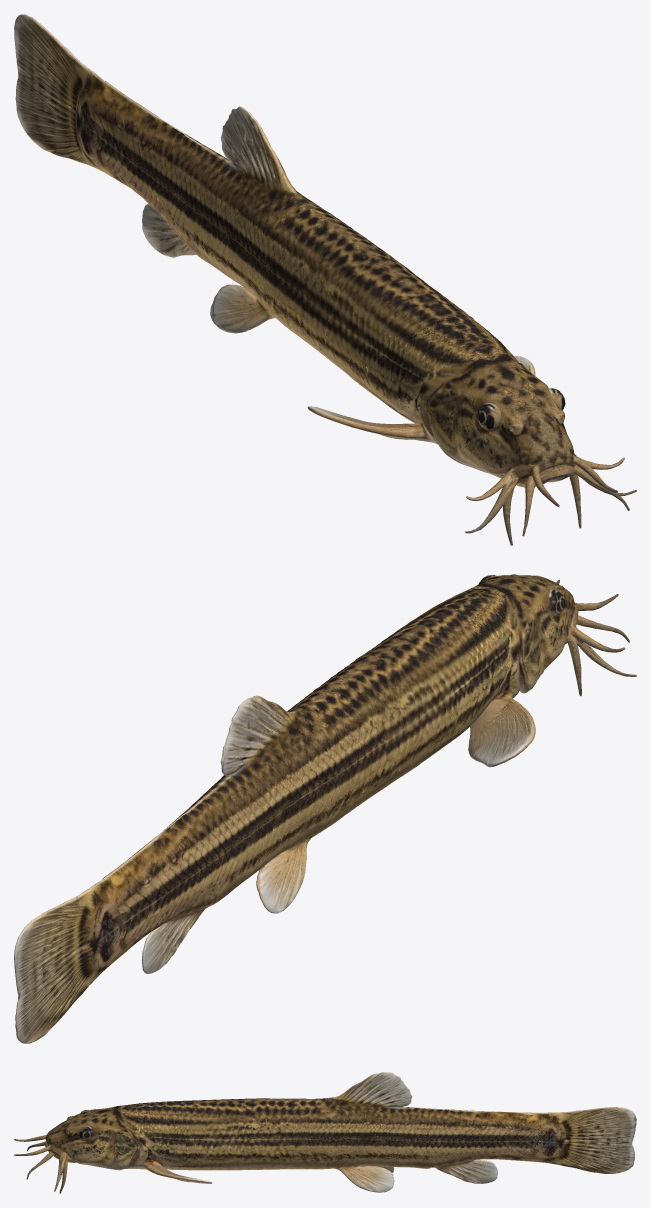
The model's file is piskorz.glb.
The picture shows the model from 3 angles, top to bottom: view 1: azimuth 30°, elevation 25°; view 2: azimuth 150°, elevation 25°; view 3: azimuth 270°, elevation 25°; orthographic projection. The views are drawn at different scales.
Visible parts, largest first — view 1: Mesh_0; view 2: Mesh_0; view 3: Mesh_0.
Boxes of the visible parts, box(x1,y1,x2,y2) form: Mesh_0: box(14, 14, 636, 545); Mesh_0: box(14, 574, 636, 1043); Mesh_0: box(14, 1072, 636, 1193).
Bounding box in the file's own units: 0.4083 × 0.3803 × 1.9.
Materials: 1 (1 with a texture image).
